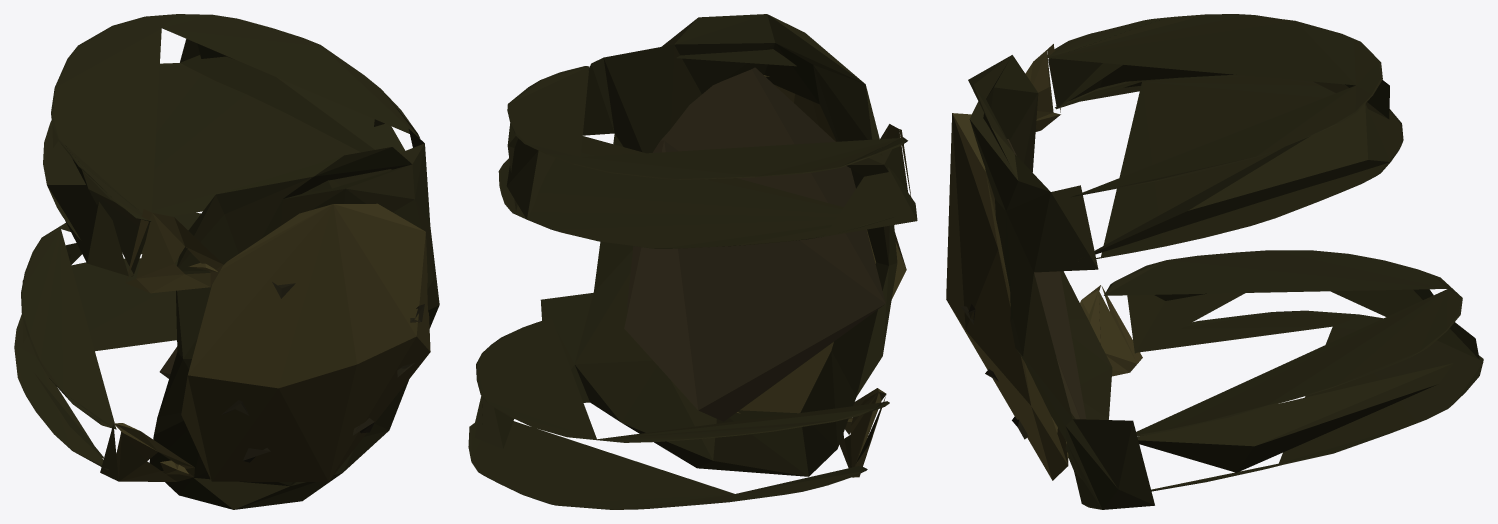
The model's file is KneePad.obj.
3 renders of one model, left to right at view 1: azimuth 30°, elevation 25°; view 2: azimuth 150°, elevation 25°; view 3: azimuth 270°, elevation 25°, orthographic. The views are drawn at different scales.
Parts seen in each view (by area): view 1: KneePad_kneepad_strapping, KneePad_ziptan, KneePad_stapping1, KneePad_plastictan; view 2: KneePad_kneepad_strapping, KneePad_stapping1, KneePad_mesh_padding, KneePad_ziptan; view 3: KneePad_kneepad_strapping, KneePad_stapping1, KneePad_ziptan, KneePad_mesh_padding.
Boxes of the visible parts, x1,y1,x2,y2 form: KneePad_kneepad_strapping: [14, 14, 420, 470]; KneePad_ziptan: [100, 203, 430, 481]; KneePad_stapping1: [149, 129, 439, 509]; KneePad_plastictan: [222, 282, 424, 462]; KneePad_kneepad_strapping: [468, 66, 917, 509]; KneePad_stapping1: [540, 14, 897, 476]; KneePad_mesh_padding: [624, 67, 885, 421]; KneePad_ziptan: [737, 75, 910, 477]; KneePad_kneepad_strapping: [1047, 14, 1483, 491]; KneePad_stapping1: [968, 55, 1154, 509]; KneePad_ziptan: [946, 44, 1142, 480]; KneePad_mesh_padding: [1007, 139, 1086, 419].
Bounding box in the file's own units: 0.178 × 0.1972 × 0.23.
